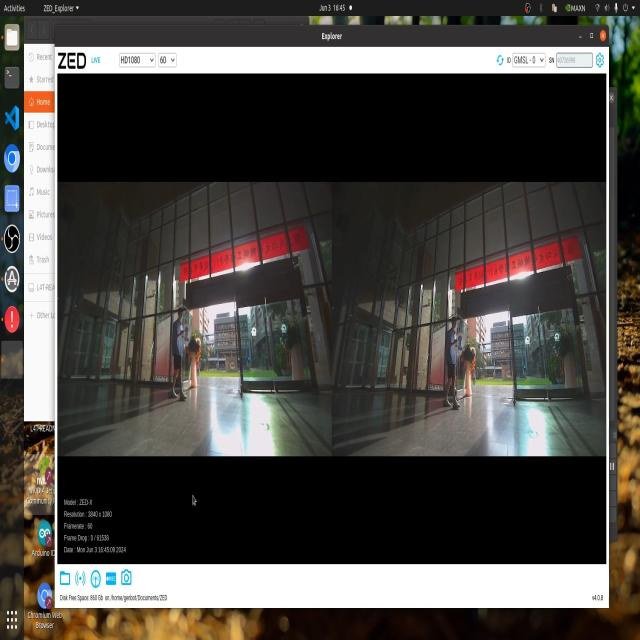blue: (457, 327, 462, 351), (185, 321, 189, 344)
